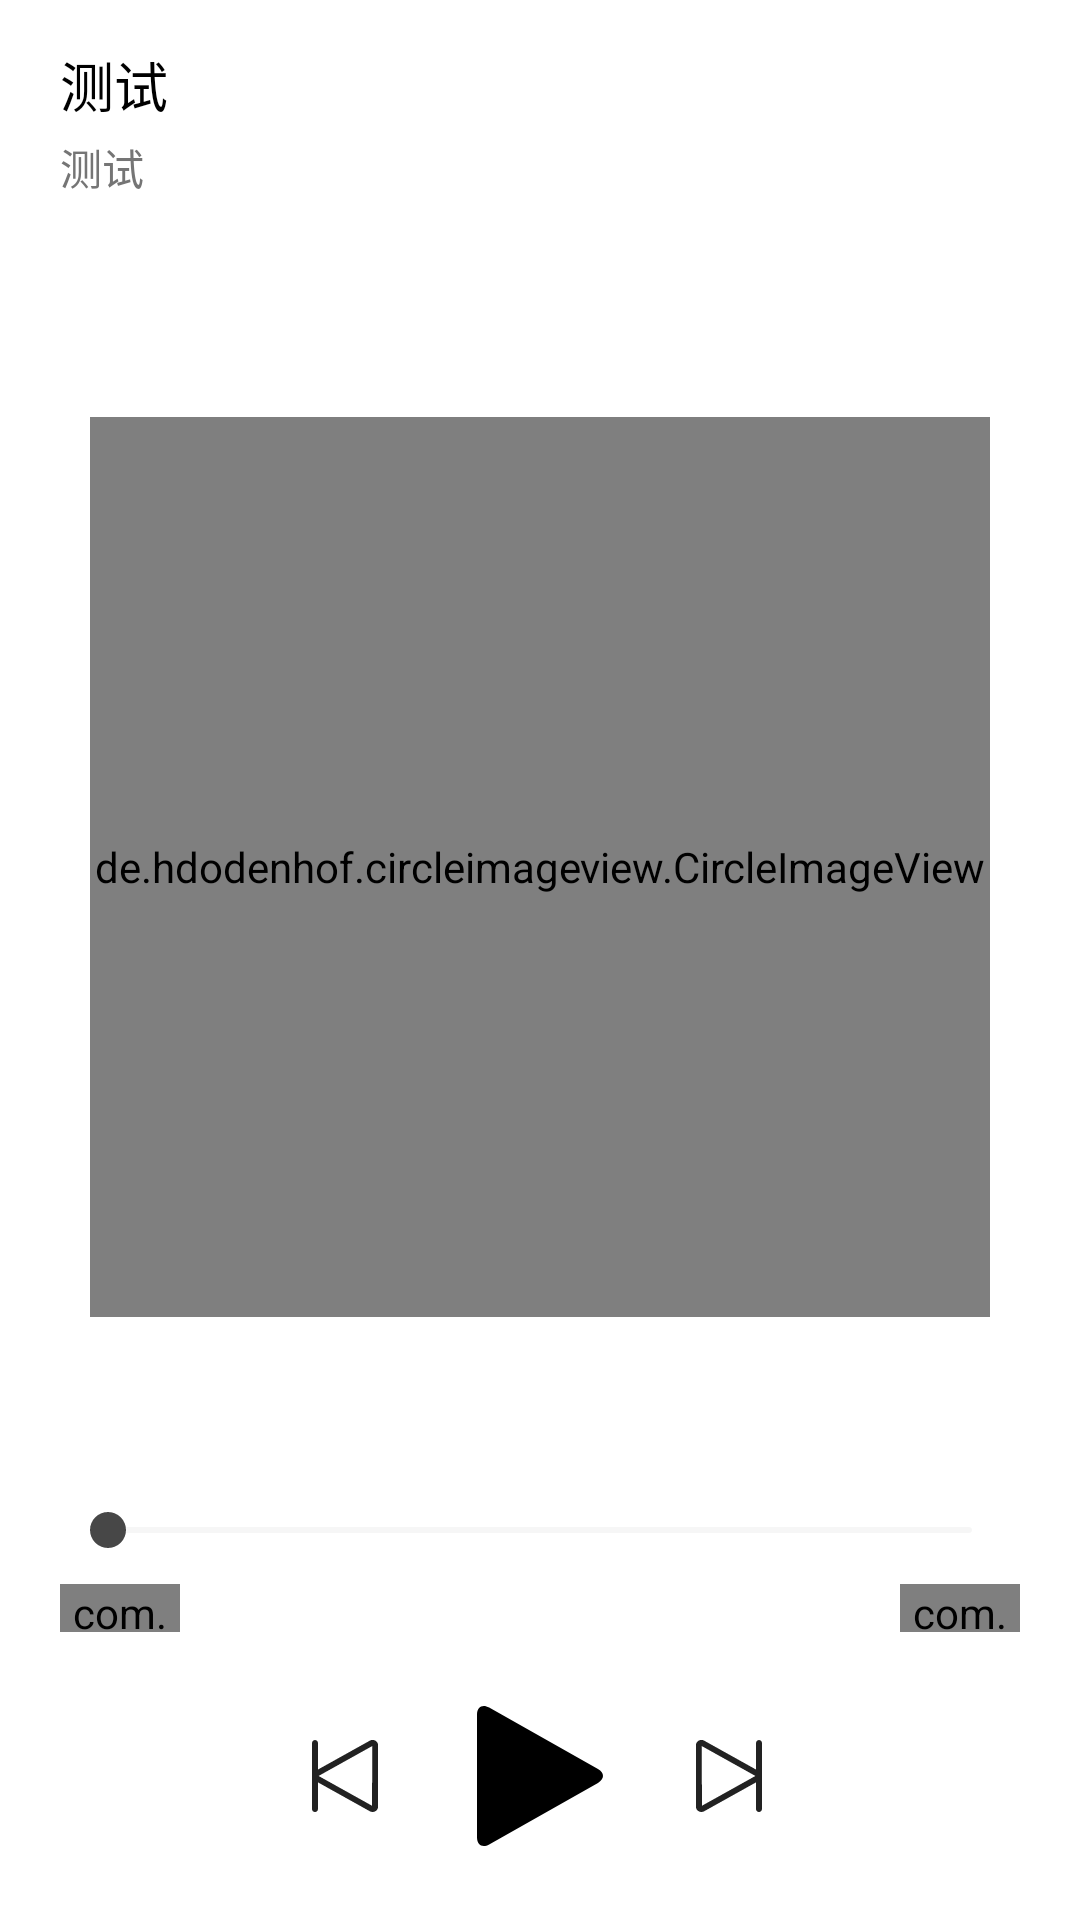

Icon bounding boxes for this 1080w x 1920h phone screenshot, format [left=x1, top=y1, right=x2, bottom=y2]:
play next: [left=696, top=1740, right=762, bottom=1812]
play prev: [left=312, top=1740, right=378, bottom=1812]
播放管理器: [left=477, top=1706, right=603, bottom=1846]
